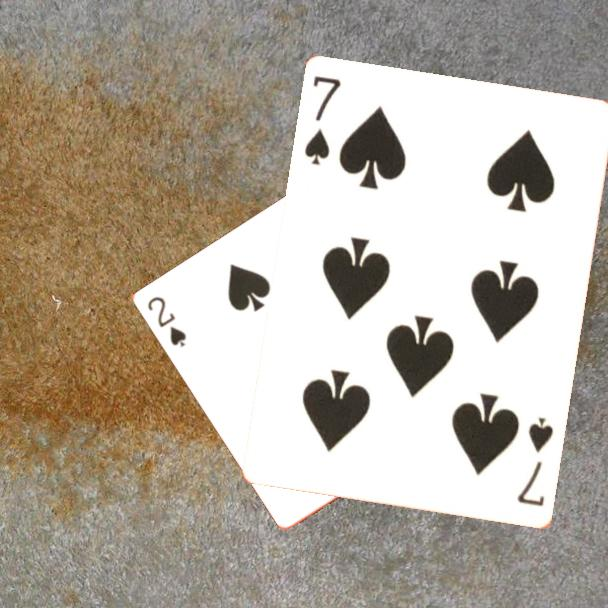s02: (144, 293, 190, 350)
s07: (513, 414, 557, 510), (301, 73, 345, 169)
